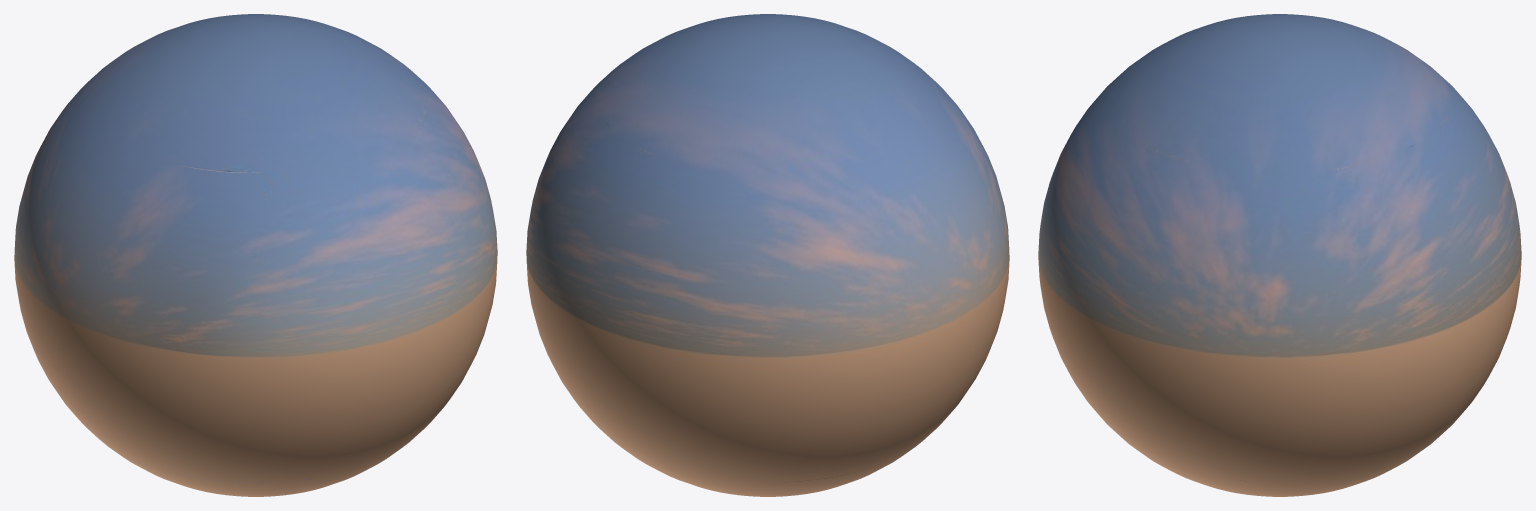
File: ruins.glb
3 views of the same model, side by side, from view 1: azimuth 30°, elevation 25°; view 2: azimuth 150°, elevation 25°; view 3: azimuth 270°, elevation 25° (orthographic).
Parts seen in each view (by area): view 1: sky; view 2: sky; view 3: sky.
Part boxes in pixels (x1=…): sky: x1=14, y1=14, x2=497, y2=496; sky: x1=526, y1=14, x2=1009, y2=496; sky: x1=1038, y1=14, x2=1521, y2=496.
Size of the model in its own units: 1720 by 1720 by 1720.
7 materials, 6 textured.
